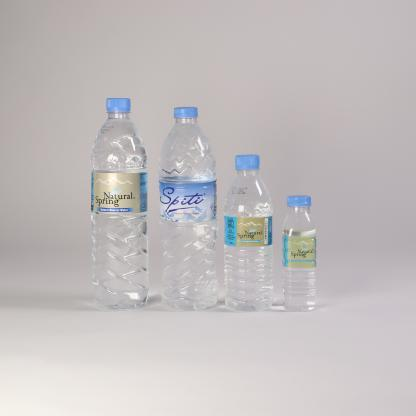bottle: (81, 88, 153, 310), (158, 86, 224, 310), (226, 140, 280, 310), (283, 181, 321, 310)
